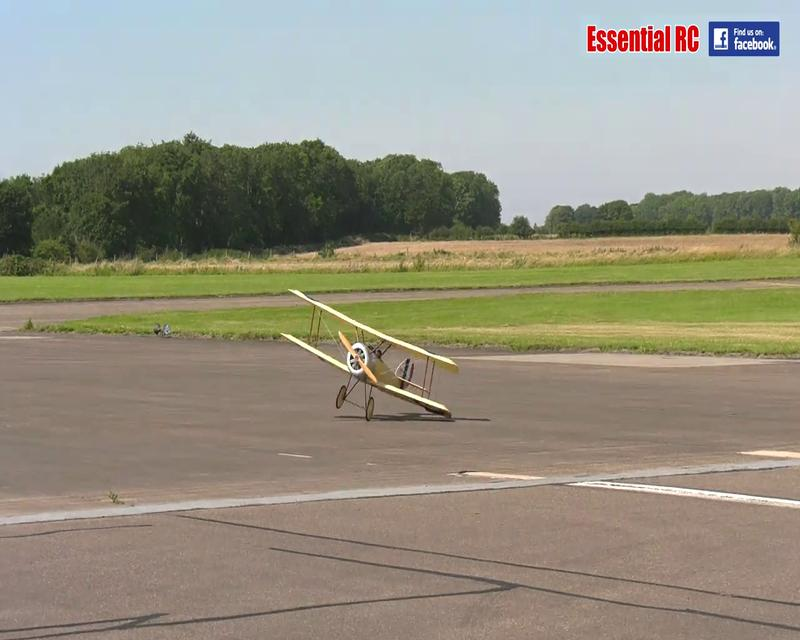UAV: (280, 288, 460, 420)
